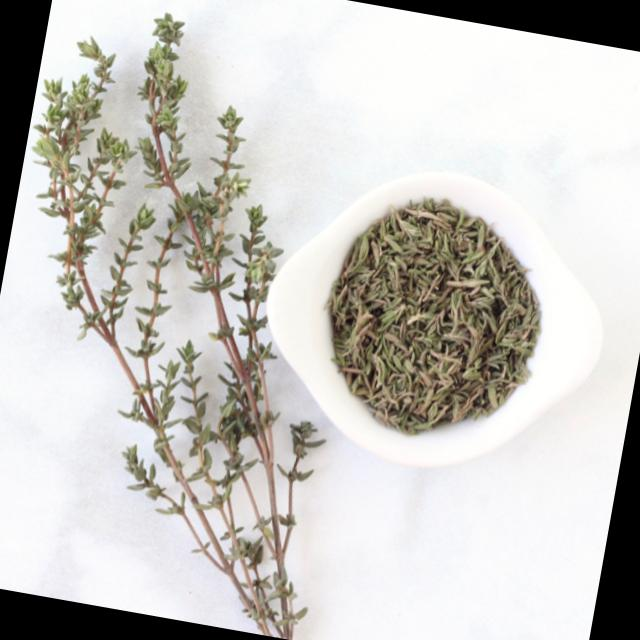Thyme: (0, 0, 417, 640), (290, 160, 584, 462)
